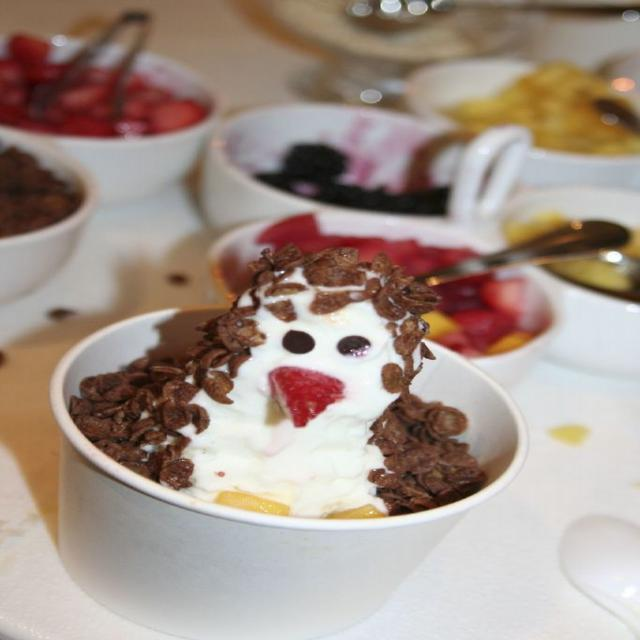Ice cream: (107, 225, 483, 549)
